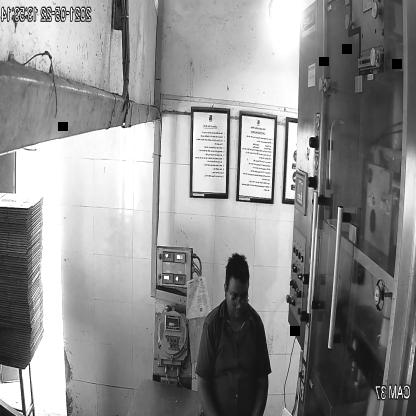goggles: (226, 290, 250, 310)
